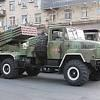MIL_SAM_TEL: (0, 24, 100, 86)
